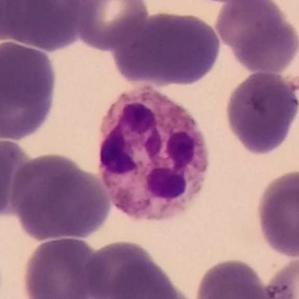Neutrophil: (91, 80, 215, 234)
RBC: (11, 153, 113, 242), (114, 8, 223, 86), (222, 69, 299, 157), (0, 36, 60, 142), (216, 0, 299, 74), (18, 234, 104, 299), (82, 238, 161, 298), (0, 0, 86, 52), (253, 167, 299, 260), (72, 0, 151, 50), (101, 255, 190, 299), (192, 255, 275, 299), (0, 136, 34, 222), (261, 252, 299, 299), (0, 0, 35, 46)
